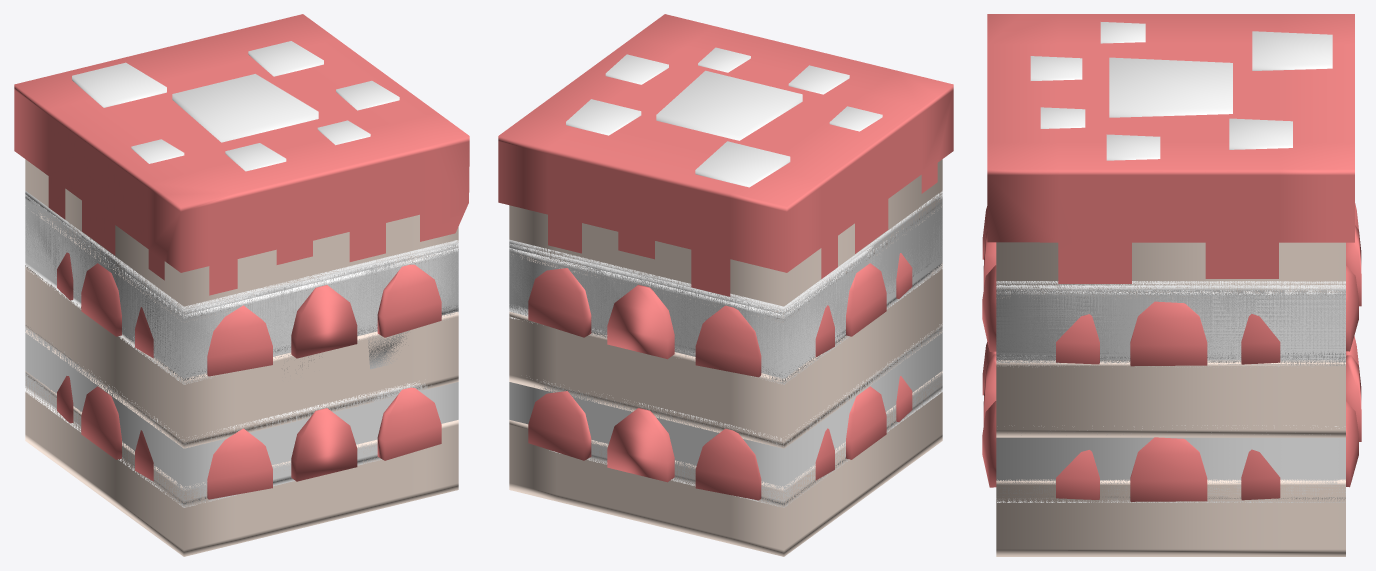
Rendered from straw_cake.glb.
3 views of the same model, side by side, from view 1: azimuth 30°, elevation 25°; view 2: azimuth 150°, elevation 25°; view 3: azimuth 270°, elevation 25° (orthographic). The views are drawn at different scales.
Parts seen in each view (by area): view 1: frosting, Cube, Cube.023, Cube.013, Cube.001, Cube.004, Cube.003, top, strawberry, Cube.012, Cube.022, Cube.024 (+14 smaller); view 2: frosting, Cube, Cube.023, Cube.013, Cube.001, Cube.003, Cube.004, top, strawberry, Cube.012, Cube.010, Cube.020 (+14 smaller); view 3: frosting, Cube, Cube.023, Cube.001, top, Cube.013, strawberry, Cube.003, Cube.012, Cube.026, Cube.004, Cube.025 (+12 smaller).
Boxes of the visible parts, x1,y1,x2,y2 form: frosting: [14, 14, 469, 295]; Cube: [25, 265, 458, 448]; Cube.023: [25, 371, 458, 556]; Cube.013: [25, 325, 458, 507]; Cube.001: [25, 213, 458, 384]; Cube.004: [25, 191, 458, 373]; Cube.003: [25, 159, 458, 321]; top: [25, 194, 458, 377]; strawberry: [291, 285, 357, 481]; Cube.012: [172, 74, 318, 142]; Cube.022: [377, 387, 441, 460]; Cube.024: [377, 264, 441, 337]; frosting: [498, 14, 953, 296]; Cube: [509, 263, 942, 448]; Cube.023: [509, 371, 942, 556]; Cube.013: [509, 324, 942, 507]; Cube.001: [509, 216, 942, 384]; Cube.003: [509, 159, 942, 322]; Cube.004: [509, 191, 942, 372]; top: [509, 194, 942, 379]; strawberry: [607, 284, 674, 482]; Cube.012: [656, 70, 802, 140]; Cube.010: [695, 305, 761, 377]; Cube.020: [695, 428, 761, 500]; frosting: [987, 14, 1354, 283]; Cube: [996, 360, 1345, 437]; Cube.023: [996, 479, 1345, 556]; Cube.001: [996, 290, 1345, 367]; top: [996, 285, 1345, 362]; Cube.013: [996, 425, 1345, 502]; strawberry: [983, 225, 1361, 501]; Cube.003: [996, 242, 1345, 299]; Cube.012: [1109, 57, 1232, 117]; Cube.026: [1252, 31, 1332, 70]; Cube.004: [996, 281, 1345, 358]; Cube.025: [1229, 118, 1292, 149].
Bounding box in the file's own units: 2.1 × 2.52 × 2.17.
